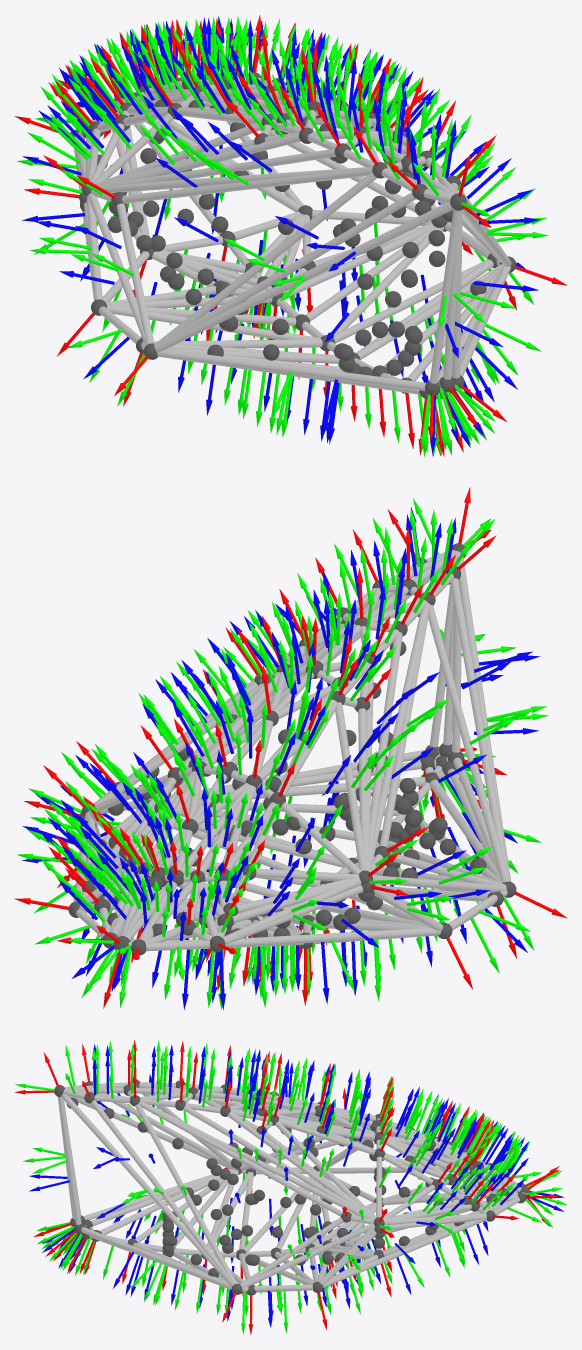
The model's file is ils_spacecraft_78.gltf.
3 renders of one model, top to bottom at view 1: azimuth 30°, elevation 25°; view 2: azimuth 150°, elevation 25°; view 3: azimuth 270°, elevation 25°, orthographic. The views are drawn at different scales.
Size of the model in its own units: 0.6457 by 0.4766 by 0.9653.
